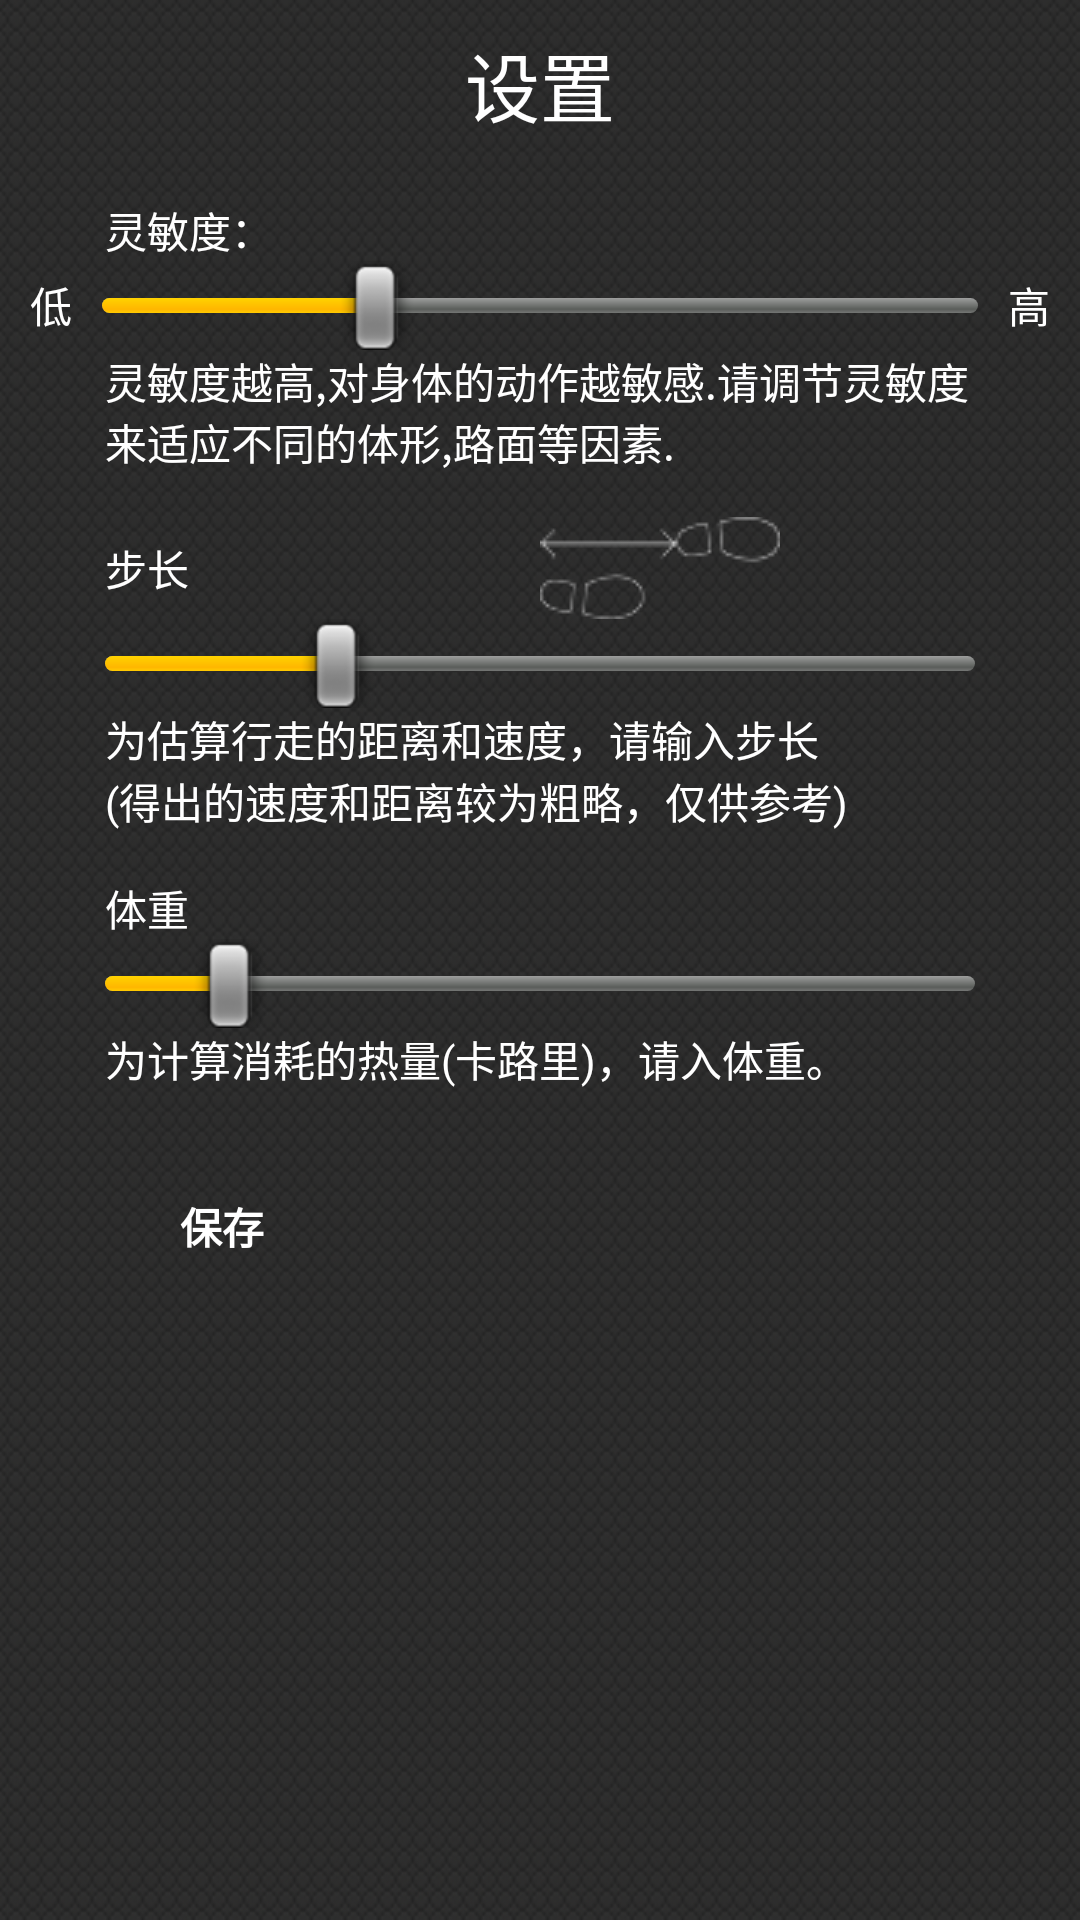

Where to tap for icons on this 1080×1920 app screen, as point (x, y):
footprint: point (660, 568)
